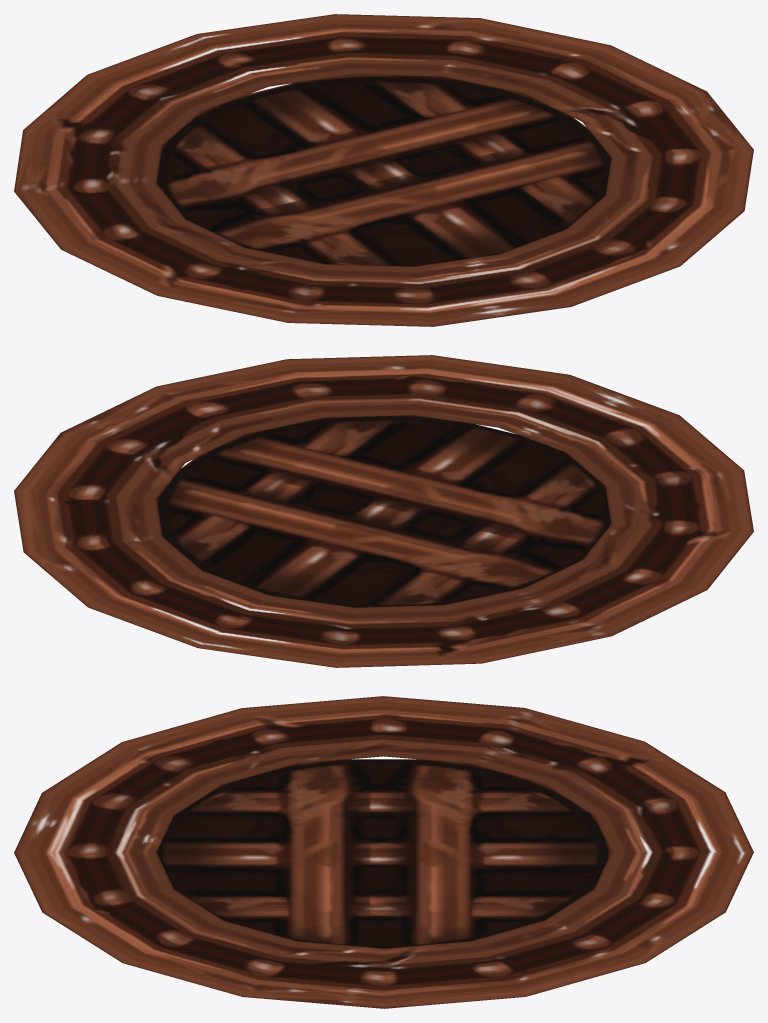
Rendered from metalGrating_01.fbx.
3 renders of one model, top to bottom at view 1: azimuth 30°, elevation 25°; view 2: azimuth 150°, elevation 25°; view 3: azimuth 270°, elevation 25°, orthographic.
Visible parts, largest first — view 1: metalGrating_01; view 2: metalGrating_01; view 3: metalGrating_01.
Boxes of the visible parts, box(x1,y1,x2,y2) form: metalGrating_01: box(14, 14, 753, 326); metalGrating_01: box(14, 355, 753, 667); metalGrating_01: box(14, 696, 753, 1008).
Bounding box in the file's own units: 2 × 0.00702 × 2.
Materials: 1 (1 with a texture image).
